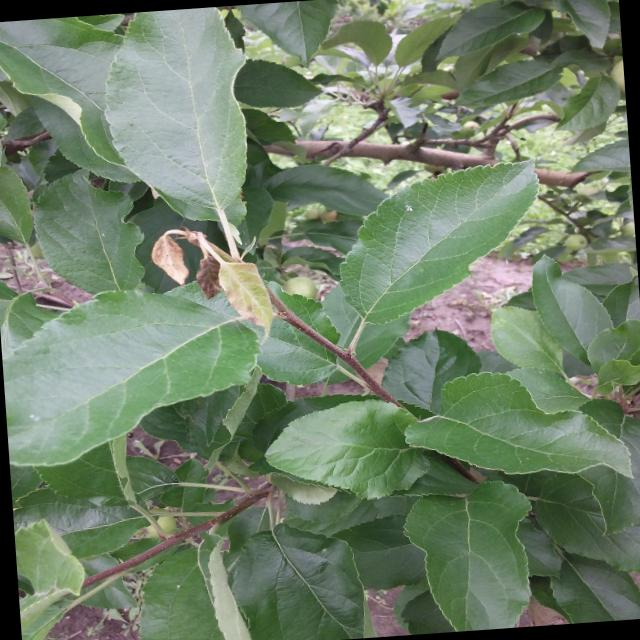-FireBlight-: (145, 225, 281, 345)
